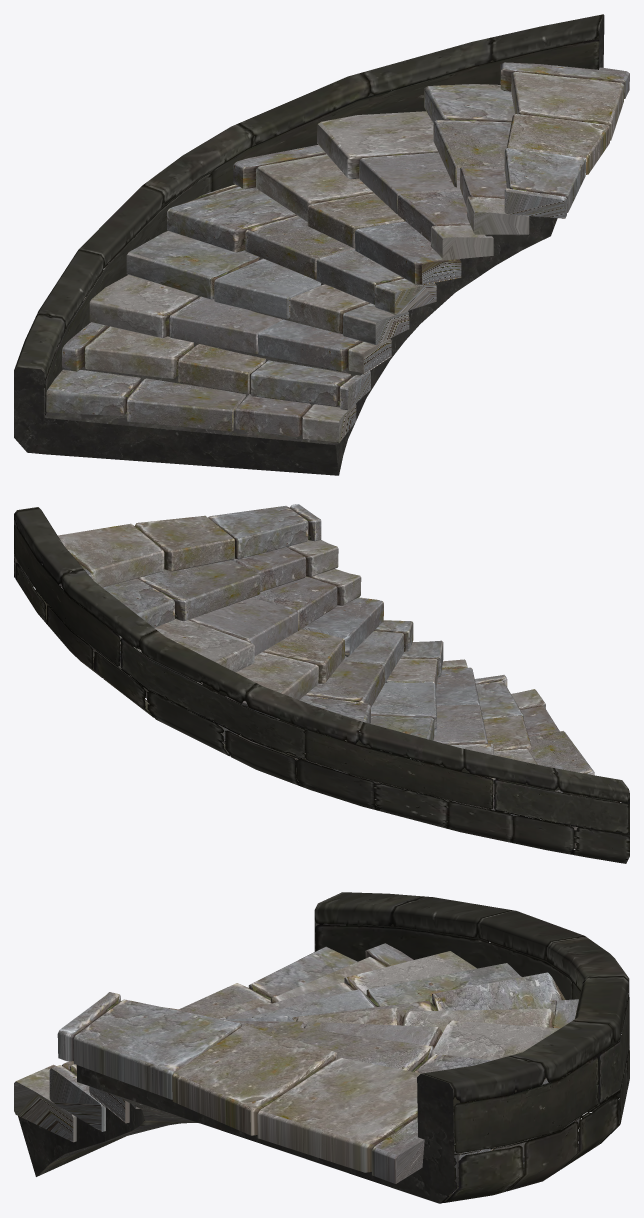
3 renders of one model, top to bottom at view 1: azimuth 30°, elevation 25°; view 2: azimuth 150°, elevation 25°; view 3: azimuth 270°, elevation 25°, orthographic. The views are drawn at different scales.
Parts seen in each view (by area): view 1: SM_Dowdun_Spiral_Staircase_Tower_03_LOD0; view 2: SM_Dowdun_Spiral_Staircase_Tower_03_LOD0; view 3: SM_Dowdun_Spiral_Staircase_Tower_03_LOD0.
Part boxes in pixels (x1=…): SM_Dowdun_Spiral_Staircase_Tower_03_LOD0: x1=14, y1=14, x2=629, y2=475; SM_Dowdun_Spiral_Staircase_Tower_03_LOD0: x1=14, y1=504, x2=629, y2=863; SM_Dowdun_Spiral_Staircase_Tower_03_LOD0: x1=14, y1=892, x2=629, y2=1203.
Bounding box in the file's own units: 7.59 × 2.99 × 4.32.
Materials: 3 (3 with a texture image).
